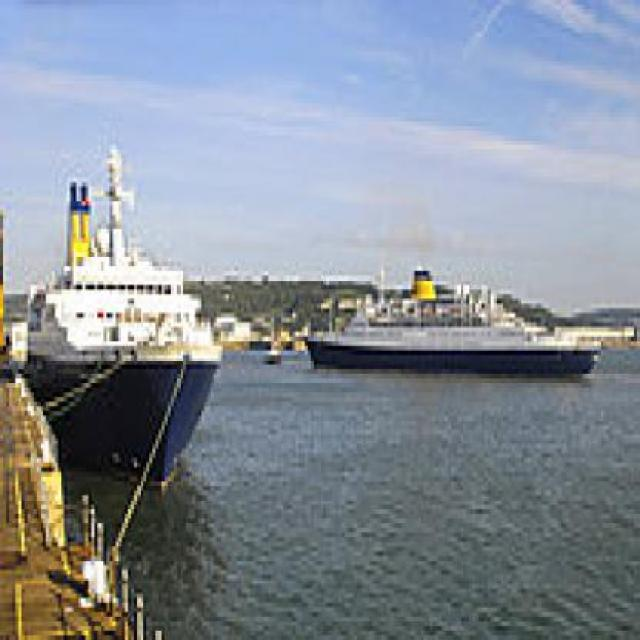cruise: (34, 132, 220, 496), (306, 249, 604, 393)
